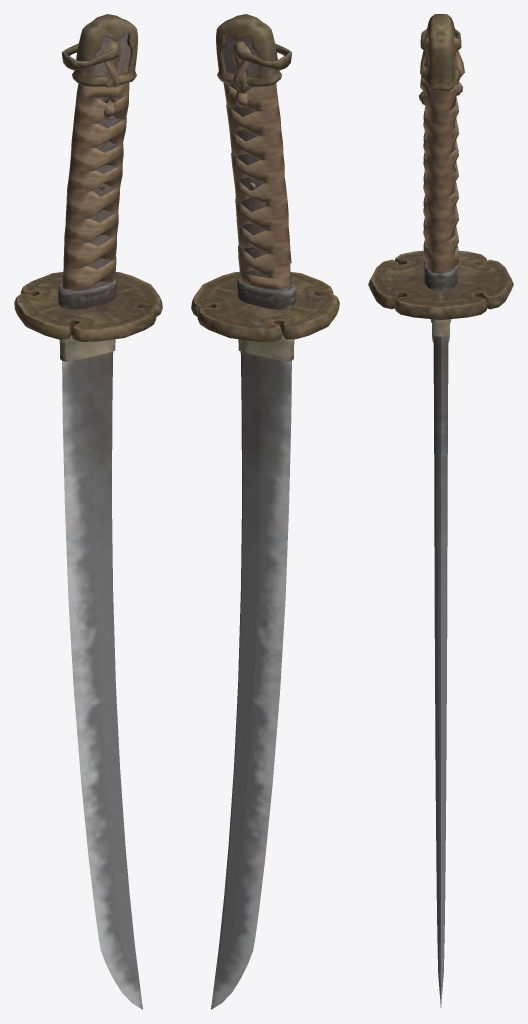
Rendered from weapon-wp_a_0120.glb.
3 renders of one model, left to right at view 1: azimuth 30°, elevation 25°; view 2: azimuth 150°, elevation 25°; view 3: azimuth 270°, elevation 25°, orthographic. The views are drawn at different scales.
Visible parts, largest first — view 1: wp_a_0120_mesh; view 2: wp_a_0120_mesh; view 3: wp_a_0120_mesh.
Boxes of the visible parts, box(x1,y1,x2,y2) form: wp_a_0120_mesh: box(14, 14, 162, 1009); wp_a_0120_mesh: box(191, 14, 339, 1009); wp_a_0120_mesh: box(368, 14, 513, 1007).
Bounding box in the file's own units: 0.0916 × 0.6769 × 0.0916.
2 materials, 2 textured.
